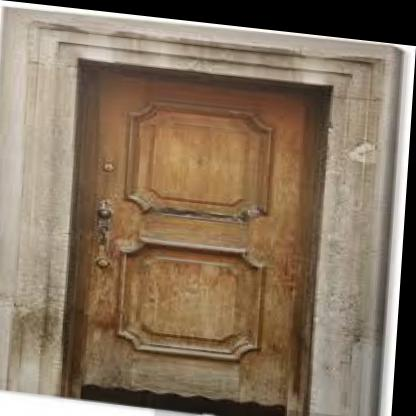door: (52, 51, 331, 415)
